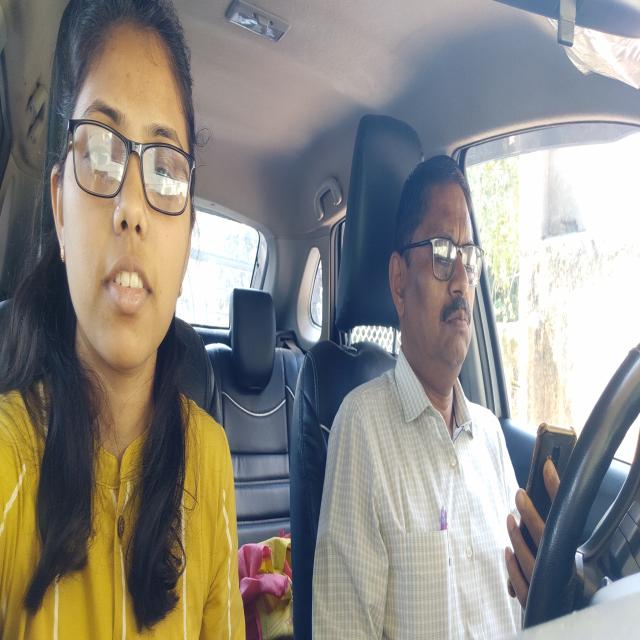mobile: (509, 409, 581, 592)
person: (45, 16, 195, 367), (395, 152, 483, 382)
